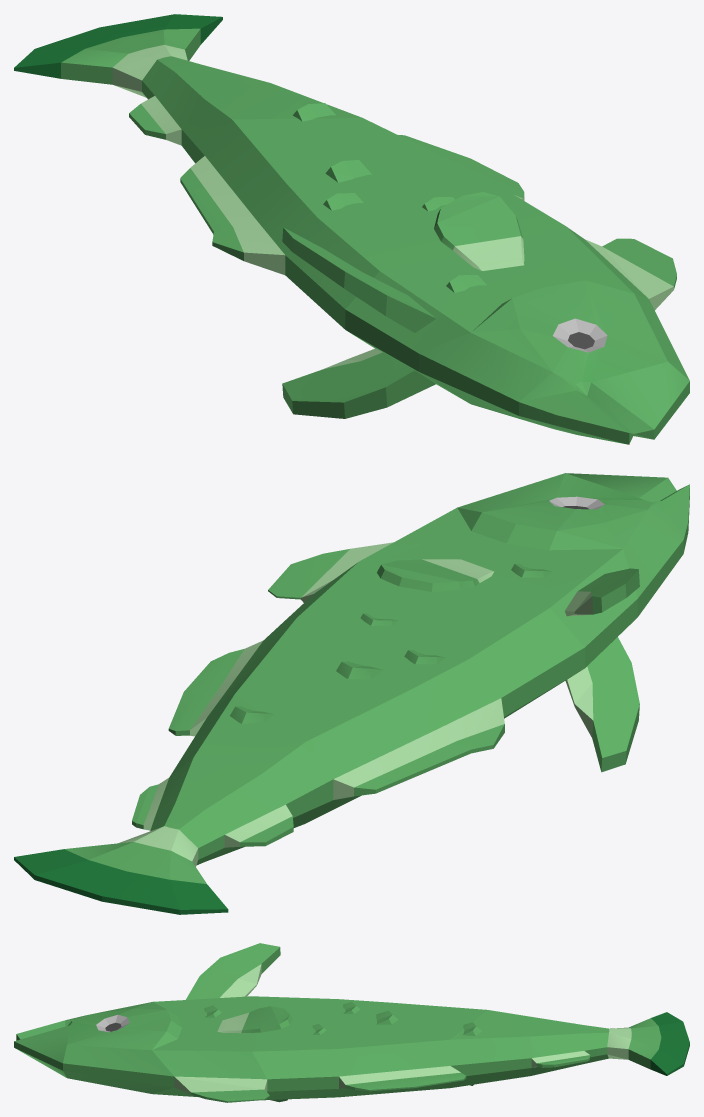
Rendered from fish_11.FBX.
3 views of the same model, one above another, from view 1: azimuth 30°, elevation 25°; view 2: azimuth 150°, elevation 25°; view 3: azimuth 270°, elevation 25° (orthographic). The views are drawn at different scales.
Visible parts, largest first — view 1: fish_11; view 2: fish_11; view 3: fish_11.
Part boxes in pixels (x1,y1,x2,y2): fish_11: (14, 14, 689, 444); fish_11: (14, 473, 689, 914); fish_11: (14, 943, 689, 1102).
Bounding box in the file's own units: 17.72 × 8.42 × 47.99.
